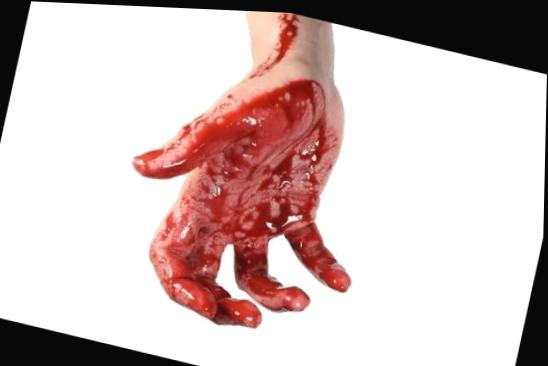Fire: (132, 75, 349, 324), (244, 10, 296, 77)
